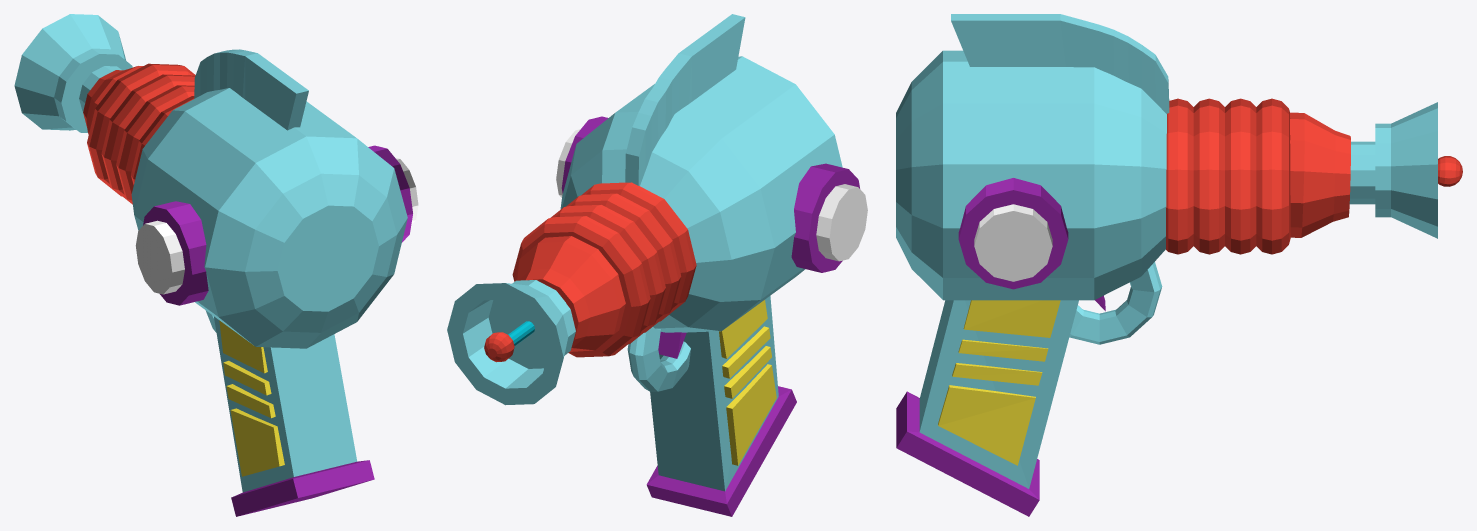
The model's file is gun_raygun.glb.
The picture shows the model from 3 angles, left to right: view 1: azimuth 30°, elevation 25°; view 2: azimuth 150°, elevation 25°; view 3: azimuth 270°, elevation 25°; orthographic projection. The views are drawn at different scales.
Parts seen in each view (by area): view 1: pose; view 2: pose; view 3: pose.
Part boxes in pixels (bbox=[...]): pose: bbox=[14, 14, 418, 516]; pose: bbox=[447, 14, 867, 516]; pose: bbox=[896, 14, 1462, 516].
Size of the model in its own units: 0.1658 by 0.2775 by 0.3.
